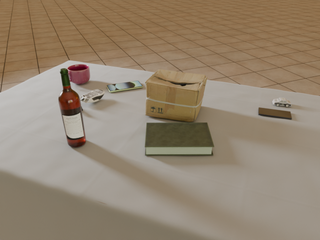book: (145, 123, 214, 155)
bottle: (58, 68, 86, 147)
box: (145, 70, 207, 122)
cup: (67, 64, 90, 84)
mouse: (80, 90, 105, 103)
phone: (107, 81, 143, 92), (259, 108, 292, 119)
toy_car: (272, 98, 291, 107)
